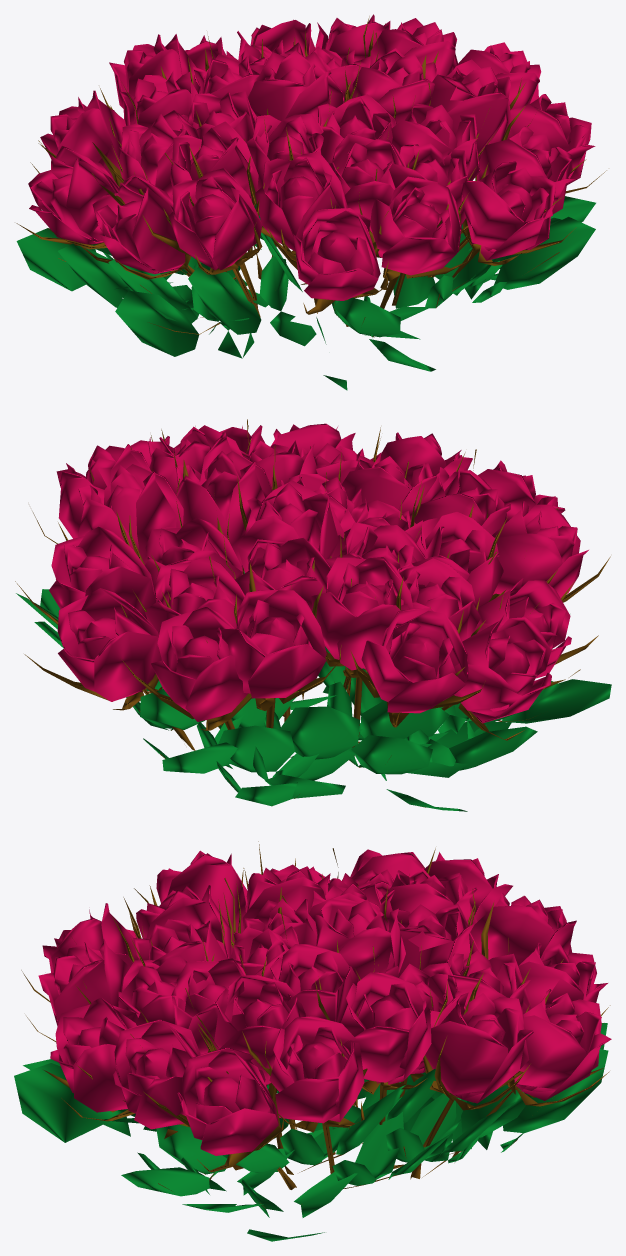
3 views of the same model, one above another, from view 1: azimuth 30°, elevation 25°; view 2: azimuth 150°, elevation 25°; view 3: azimuth 270°, elevation 25° (orthographic). The views are drawn at different scales.
Visible parts, largest first — view 1: 782946d2; view 2: 782946d2; view 3: 782946d2.
Boxes of the visible parts, x1,y1,x2,y2 form: 782946d2: (16,14,606,390); 782946d2: (15,419,611,811); 782946d2: (14,841,611,1241).
Bounding box in the file's own units: 0.1556 × 0.0642 × 0.1418.
